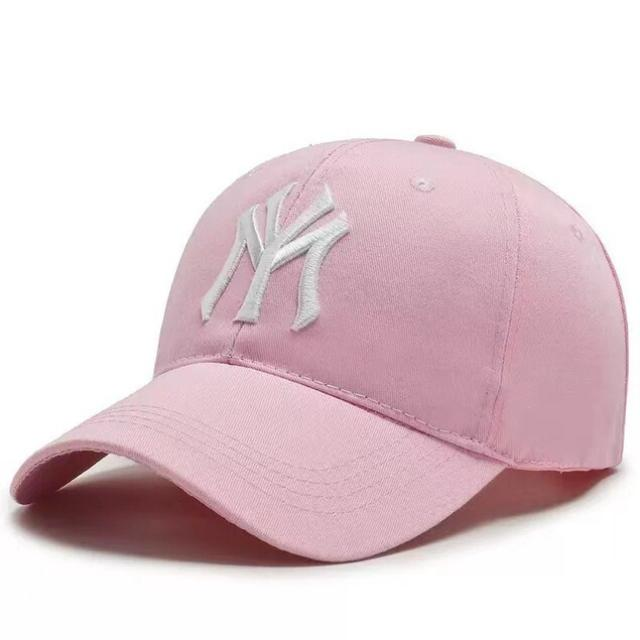Nonhelmet: (8, 131, 630, 563)
